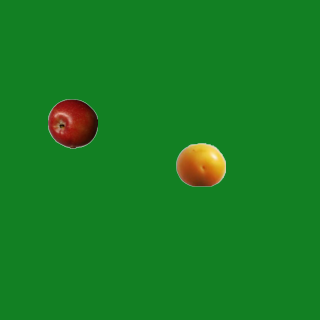Apple Braeburn: (47, 98, 97, 148)
Cherry Wax Yellow: (175, 139, 225, 189)
